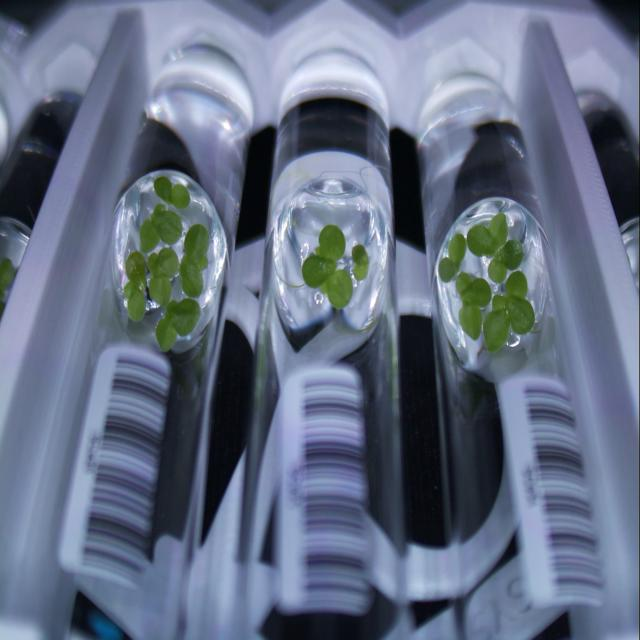Lemna-Gibba: (482, 295, 535, 352), (301, 225, 345, 289), (455, 272, 491, 340), (180, 223, 209, 297), (165, 297, 201, 335), (439, 233, 466, 282), (154, 175, 190, 208), (151, 205, 182, 243), (466, 223, 498, 257), (326, 269, 352, 309), (148, 247, 179, 278), (124, 280, 146, 322), (500, 238, 524, 270), (125, 250, 146, 285), (155, 317, 176, 352), (140, 218, 160, 252), (488, 212, 508, 246), (351, 243, 369, 280), (506, 270, 528, 299), (149, 277, 171, 305), (488, 257, 508, 284), (320, 280, 328, 294)
